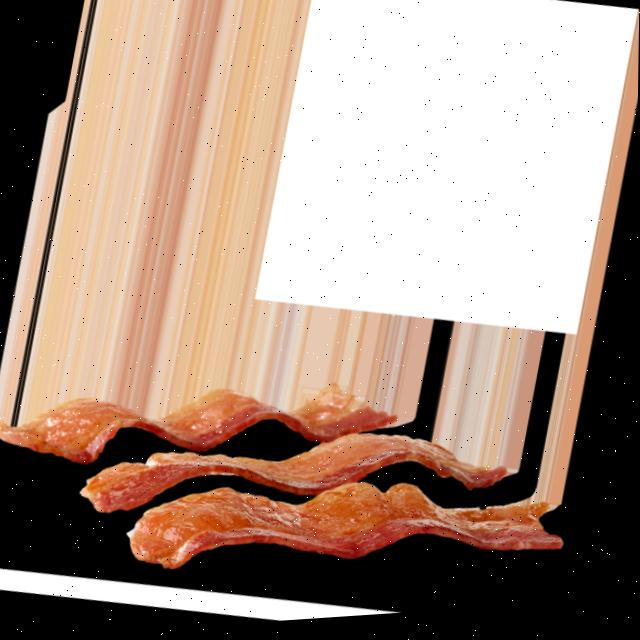Bacon: (130, 487, 563, 570), (82, 438, 509, 513), (0, 388, 398, 464)
